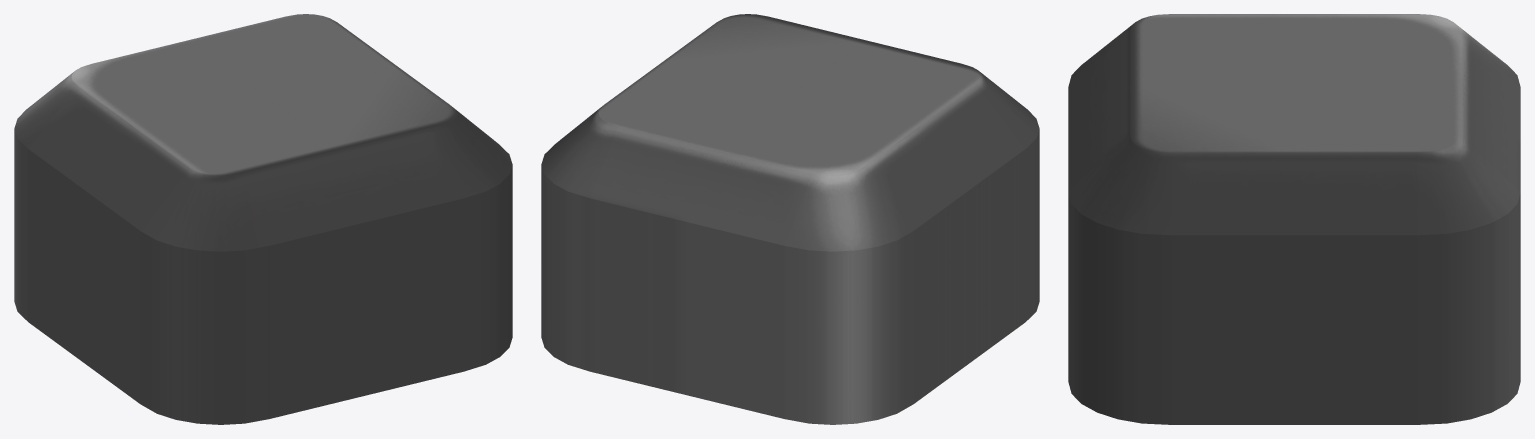
The model's file is Block_1x1_Black.glb.
3 views of the same model, side by side, from view 1: azimuth 30°, elevation 25°; view 2: azimuth 150°, elevation 25°; view 3: azimuth 270°, elevation 25° (orthographic). The views are drawn at different scales.
Visible parts, largest first — view 1: Edge_Bottom, FrontFace, Edge_Left, Corner_BottomLeft, Corner_BottomRight, Corner_TopLeft; view 2: Edge_Top, FrontFace, Edge_Left, Corner_TopLeft, Corner_TopRight, Corner_BottomLeft; view 3: Edge_Right, FrontFace, Corner_TopRight, Corner_BottomRight, Edge_Top, Edge_Bottom, Corner_TopLeft, Corner_BottomLeft.
Boxes of the visible parts, left/top/right/bottom form: Edge_Bottom: left=241, top=126, right=463, bottom=418; FrontFace: left=71, top=14, right=455, bottom=176; Edge_Left: left=28, top=86, right=189, bottom=403; Corner_BottomLeft: left=140, top=168, right=269, bottom=424; Corner_BottomRight: left=436, top=106, right=512, bottom=371; Corner_TopLeft: left=14, top=71, right=77, bottom=321; Edge_Top: left=590, top=126, right=812, bottom=418; FrontFace: left=598, top=14, right=982, bottom=176; Edge_Left: left=864, top=86, right=1025, bottom=403; Corner_TopLeft: left=784, top=168, right=913, bottom=424; Corner_TopRight: left=541, top=106, right=617, bottom=371; Corner_BottomLeft: left=976, top=71, right=1039, bottom=321; Edge_Right: left=1171, top=153, right=1417, bottom=424; FrontFace: left=1130, top=14, right=1458, bottom=152; Corner_TopRight: left=1417, top=135, right=1520, bottom=424; Corner_BottomRight: left=1068, top=135, right=1171, bottom=424; Edge_Top: left=1458, top=32, right=1520, bottom=190; Edge_Bottom: left=1068, top=32, right=1130, bottom=190; Corner_TopLeft: left=1453, top=22, right=1520, bottom=86; Corner_BottomLeft: left=1068, top=22, right=1135, bottom=86.
Bounding box in the file's own units: 1 × 0.5995 × 1.
Materials: 1 (1 with a texture image).
